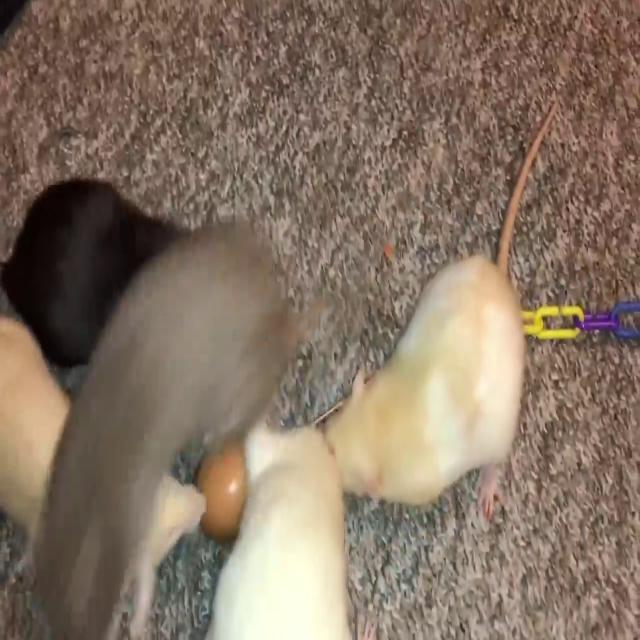rat: (322, 248, 525, 513)
